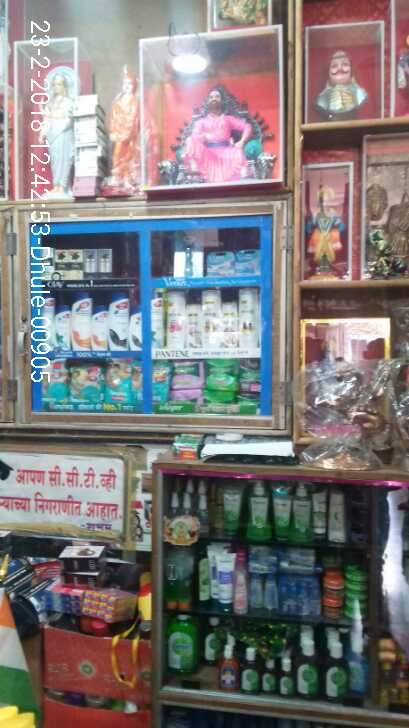venus: (174, 228, 204, 276), (233, 248, 258, 275), (208, 254, 232, 276)
